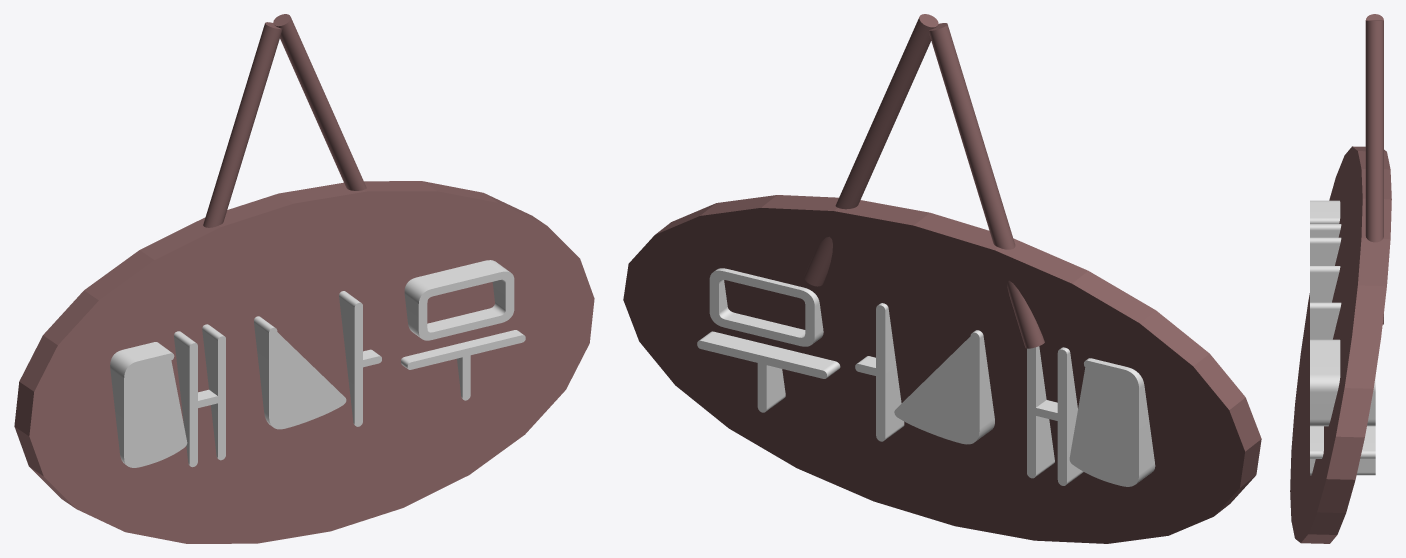
Rendered from 대나무 표지판.fbx.
3 renders of one model, left to right at view 1: azimuth 30°, elevation 25°; view 2: azimuth 150°, elevation 25°; view 3: azimuth 270°, elevation 25°, orthographic. The views are drawn at different scales.
Parts seen in each view (by area): view 1: pDisc1, typeMesh4, pCylinder1, pCylinder2; view 2: pDisc1, typeMesh4, pCylinder1, pCylinder2; view 3: pDisc1, typeMesh4, pCylinder2.
Part boxes in pixels (x1=…): pDisc1: x1=14, y1=181, x2=594, y2=543; typeMesh4: x1=110, y1=260, x2=525, y2=467; pCylinder1: x1=203, y1=22, x2=282, y2=227; pCylinder2: x1=273, y1=14, x2=366, y2=190; pDisc1: x1=623, y1=195, x2=1261, y2=543; typeMesh4: x1=697, y1=268, x2=1155, y2=486; pCylinder1: x1=928, y1=23, x2=1044, y2=348; pCylinder2: x1=804, y1=14, x2=938, y2=286; pDisc1: x1=1290, y1=146, x2=1391, y2=543; typeMesh4: x1=1310, y1=200, x2=1375, y2=475; pCylinder2: x1=1365, y1=20, x2=1383, y2=324.
Size of the model in its own units: 2 by 1.64 by 0.3202.
